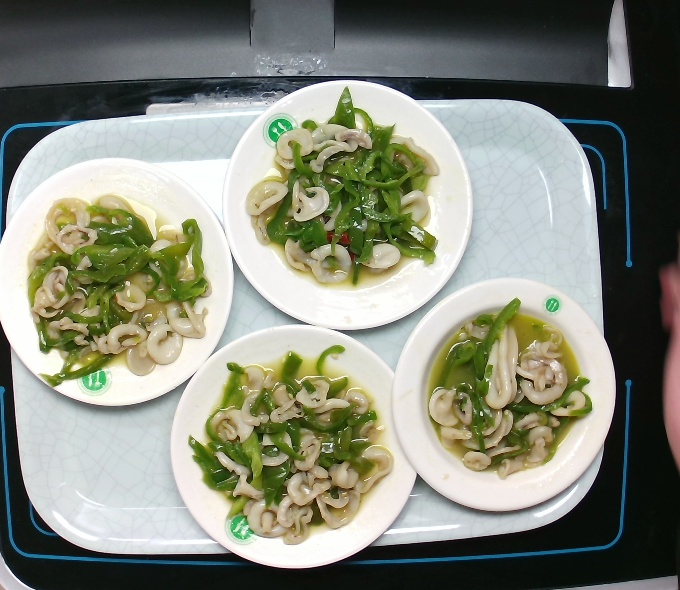wcq-QingJiaoYouYu: (189, 346, 395, 546), (240, 100, 445, 297), (26, 184, 212, 393), (420, 306, 600, 482)
